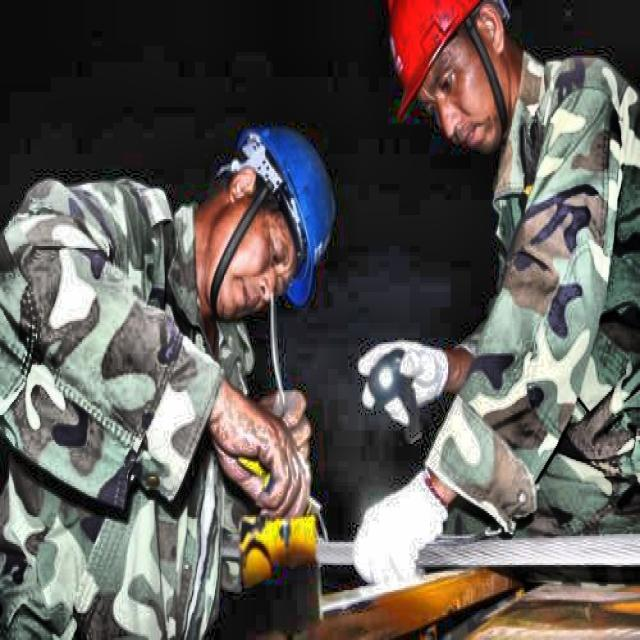helmet: (197, 115, 347, 329), (378, 2, 526, 169)
